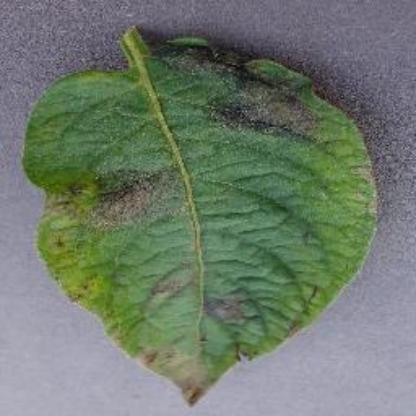Late-Blight: (19, 19, 382, 411)
